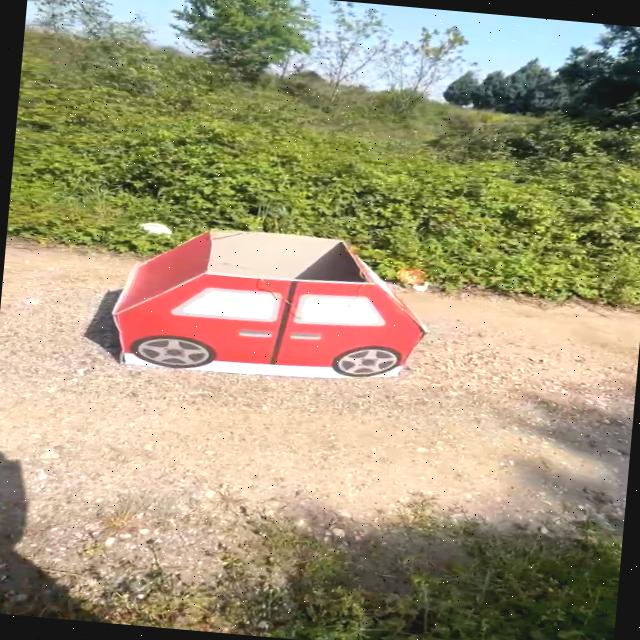red_car: (87, 212, 466, 408)
